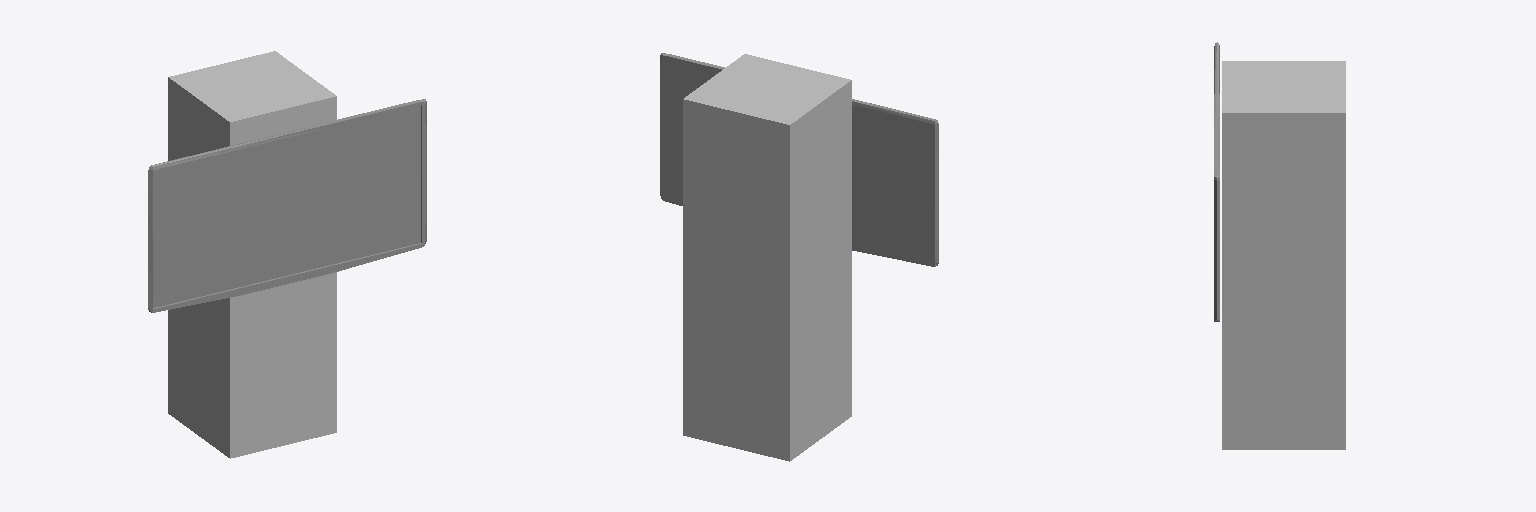
The model's file is mesh_tv_wall.obj.
The picture shows the model from 3 angles: view 1: azimuth 30°, elevation 25°; view 2: azimuth 150°, elevation 25°; view 3: azimuth 270°, elevation 25°; orthographic projection.
Visible parts, largest first — view 1: Cube_Cube.001, Cube.001_Cube; view 2: Cube.001_Cube, Cube_Cube.001; view 3: Cube.001_Cube, Cube_Cube.001.
Boxes of the visible parts, x1=… form: Cube_Cube.001: x1=148, y1=99, x2=426, y2=312; Cube.001_Cube: x1=168, y1=51, x2=336, y2=458; Cube.001_Cube: x1=683, y1=54, x2=851, y2=461; Cube_Cube.001: x1=660, y1=53, x2=938, y2=266; Cube.001_Cube: x1=1222, y1=61, x2=1345, y2=449; Cube_Cube.001: x1=1214, y1=42, x2=1219, y2=321.
Bounding box in the file's own units: 5.2 × 6 × 2.13.